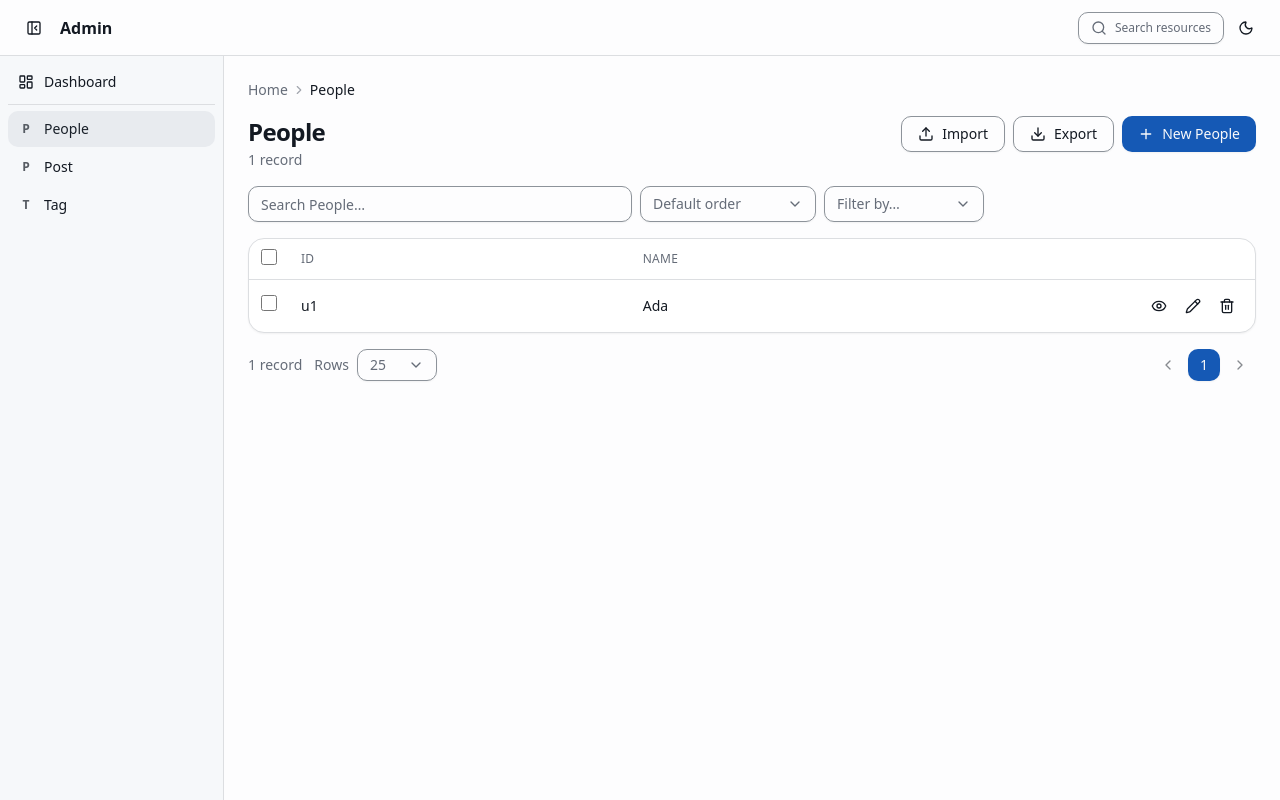
Test: the command palette › navigates, and closes behind itself
Expected: the table is shown, [249,239,1255,332]
Press k
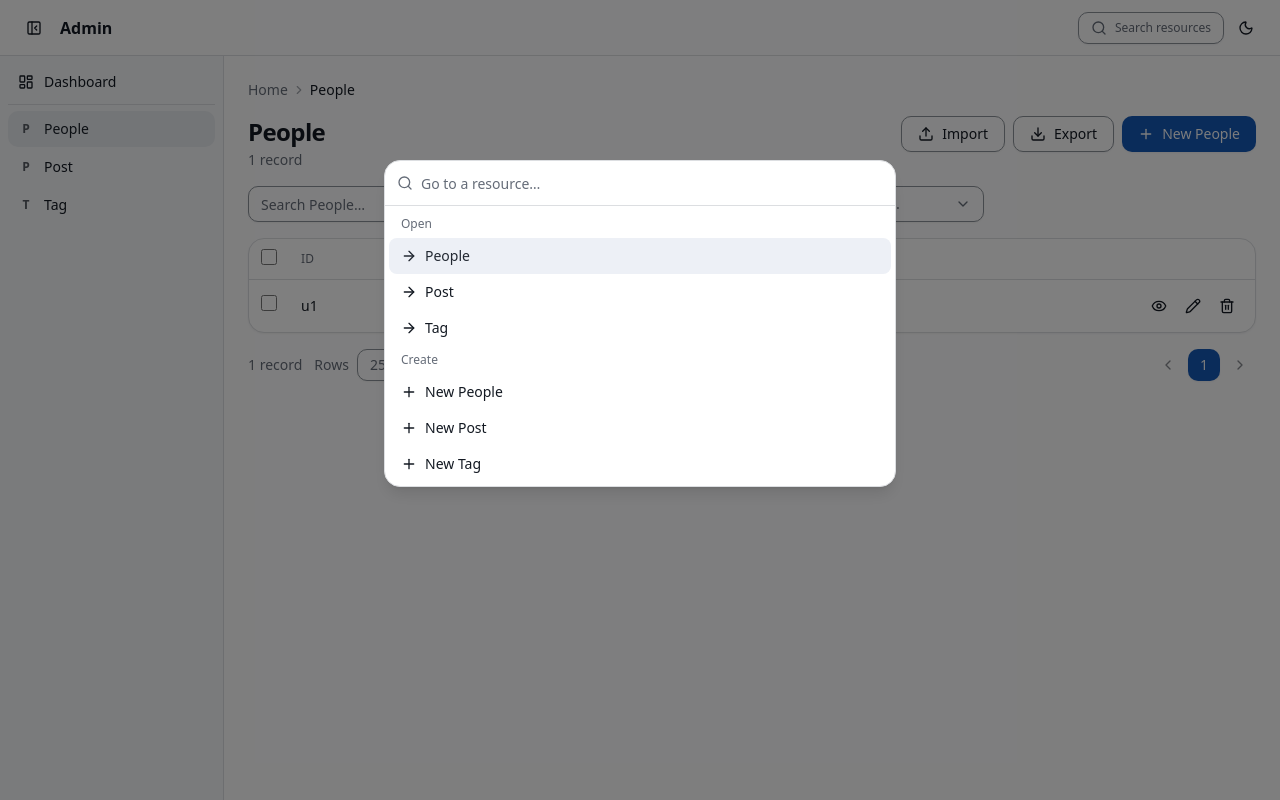
Click the option "Post".
click(427, 292)  # box [401,282,454,301]
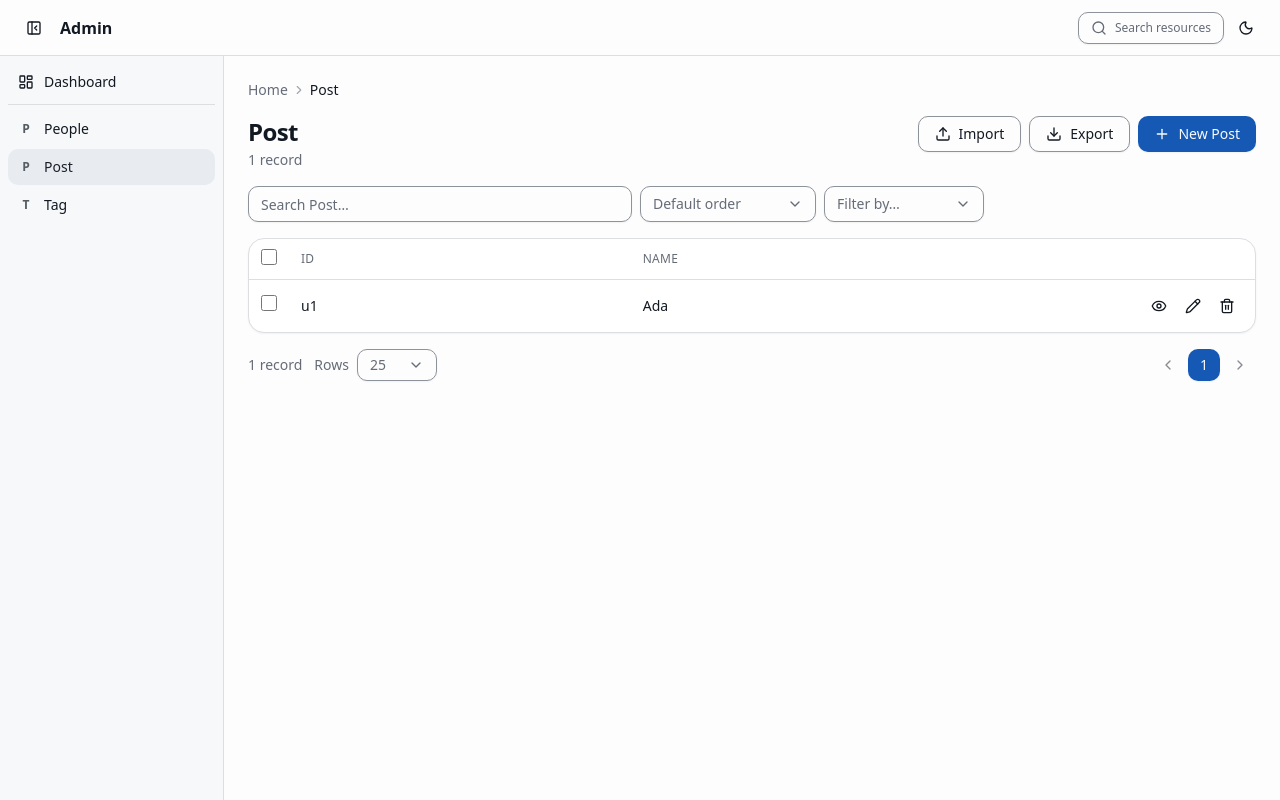
Expected: the dialog is gone
